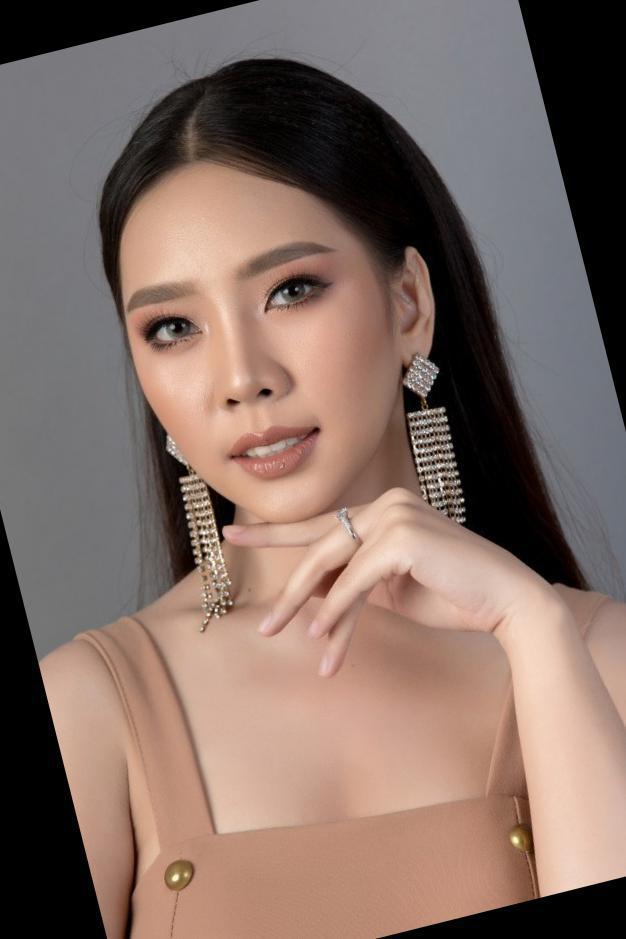Sober: (125, 218, 379, 502)
